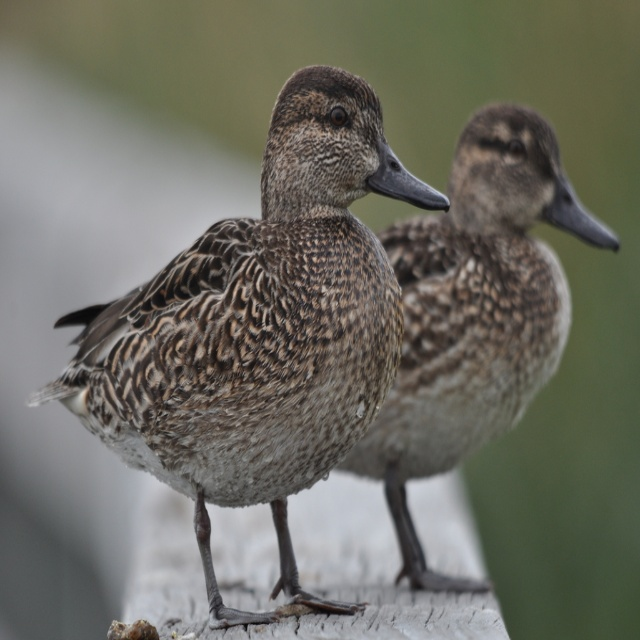Duck: (27, 61, 450, 639), (364, 95, 621, 521)
